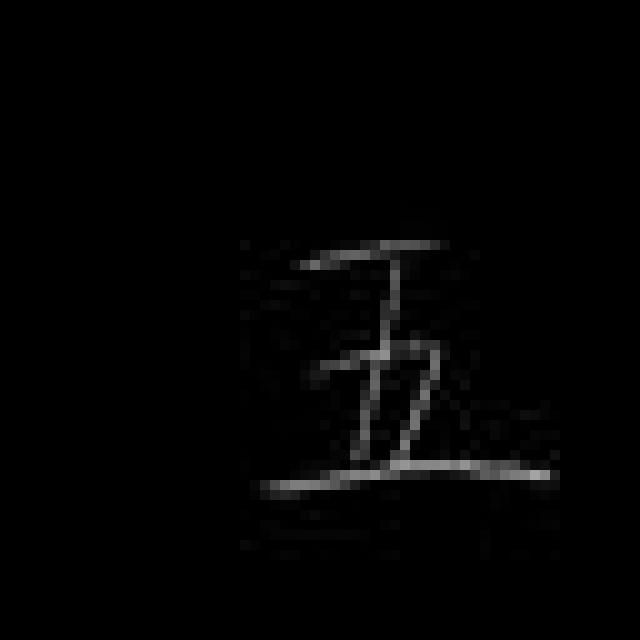5 -five-: (266, 221, 556, 503)
